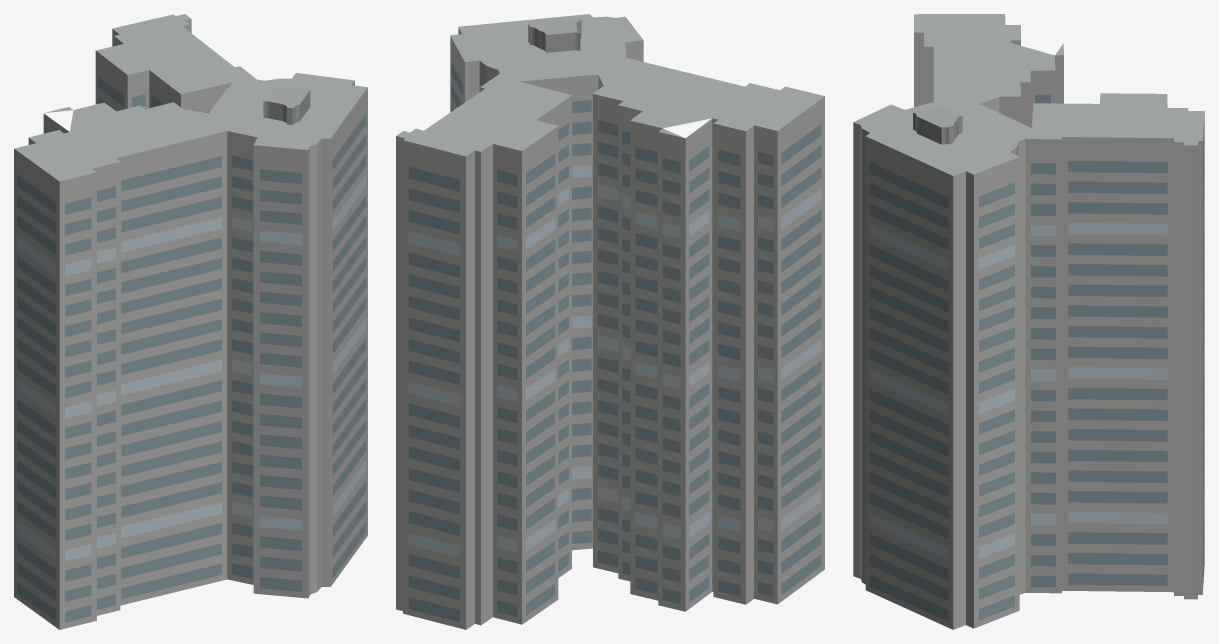
File: fallback-godeok-arteon-307.glb
3 views of the same model, side by side, from view 1: azimuth 30°, elevation 25°; view 2: azimuth 150°, elevation 25°; view 3: azimuth 270°, elevation 25° (orthographic). The views are drawn at different scales.
Parts seen in each view (by area): view 1: fallback-godeok-arteon-307; view 2: fallback-godeok-arteon-307; view 3: fallback-godeok-arteon-307.
Boxes of the visible parts, <box> form: fallback-godeok-arteon-307: <box>14,14,367,629</box>; fallback-godeok-arteon-307: <box>396,14,824,629</box>; fallback-godeok-arteon-307: <box>853,14,1204,629</box>.
Bounding box in the file's own units: 48.75 × 66 × 44.64.
